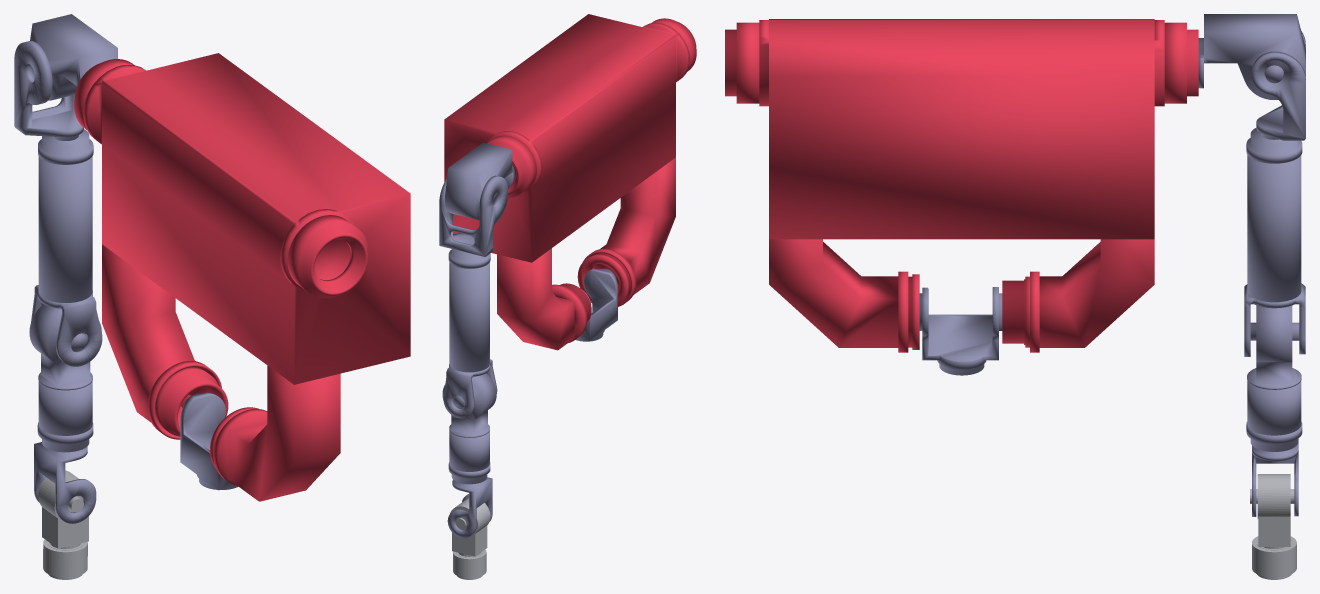
The model's file is teo_leftArm.glb.
The picture shows the model from 3 angles, left to right: view 1: azimuth 30°, elevation 25°; view 2: azimuth 150°, elevation 25°; view 3: azimuth 270°, elevation 25°; orthographic projection. The views are drawn at different scales.
Parts seen in each view (by area): view 1: node.016, AxialLeftShoulder, FrontalLeftElbow, SagittalLeftShoulder, FrontalLeftShoulder, FrontalLeftWrist, node.015, AxialLeftWrist; view 2: node.016, AxialLeftShoulder, FrontalLeftElbow, FrontalLeftShoulder, SagittalLeftShoulder, FrontalLeftWrist, node.015, AxialLeftWrist; view 3: node.016, AxialLeftShoulder, FrontalLeftElbow, FrontalLeftShoulder, node.015, FrontalLeftWrist, SagittalLeftShoulder, AxialLeftWrist.
Boxes of the visible parts, x1,y1,x2,y2 form: node.016: [74, 53, 410, 501]; AxialLeftShoulder: [31, 129, 102, 366]; FrontalLeftElbow: [29, 304, 101, 452]; SagittalLeftShoulder: [14, 41, 83, 140]; FrontalLeftShoulder: [30, 14, 117, 100]; FrontalLeftWrist: [38, 470, 88, 579]; node.015: [180, 392, 237, 490]; AxialLeftWrist: [34, 442, 96, 523]; node.016: [444, 14, 696, 350]; AxialLeftShoulder: [443, 249, 497, 418]; FrontalLeftElbow: [442, 373, 496, 484]; FrontalLeftShoulder: [445, 142, 514, 219]; SagittalLeftShoulder: [439, 175, 508, 256]; FrontalLeftWrist: [450, 498, 490, 579]; node.015: [575, 268, 617, 341]; AxialLeftWrist: [447, 477, 492, 537]; node.016: [725, 19, 1198, 352]; AxialLeftShoulder: [1244, 128, 1305, 356]; FrontalLeftElbow: [1246, 305, 1302, 451]; FrontalLeftShoulder: [1198, 14, 1305, 99]; node.015: [919, 287, 1002, 375]; FrontalLeftWrist: [1250, 474, 1296, 579]; SagittalLeftShoulder: [1252, 31, 1305, 140]; AxialLeftWrist: [1252, 438, 1298, 516].
Size of the model in its own units: 0.1679 by 0.6729 by 0.6448.
